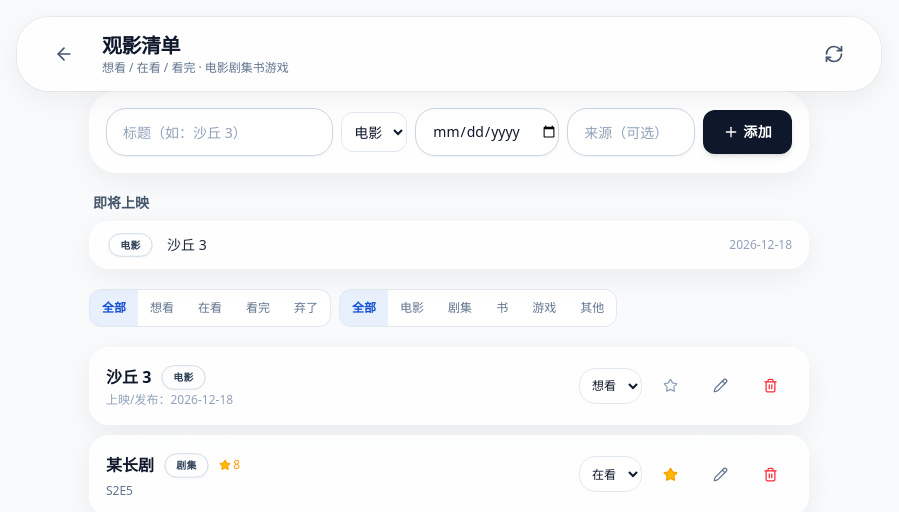
Test case: Watchlist 页（v2.31 R5 / F63） › status filter narrows the list
The image size is (899, 512).
Check: the heading "某长剧" is shown, box left=106, top=454, right=154, bottom=478
Click the tab "想看".
click(162, 308)  # box left=138, top=290, right=186, bottom=326
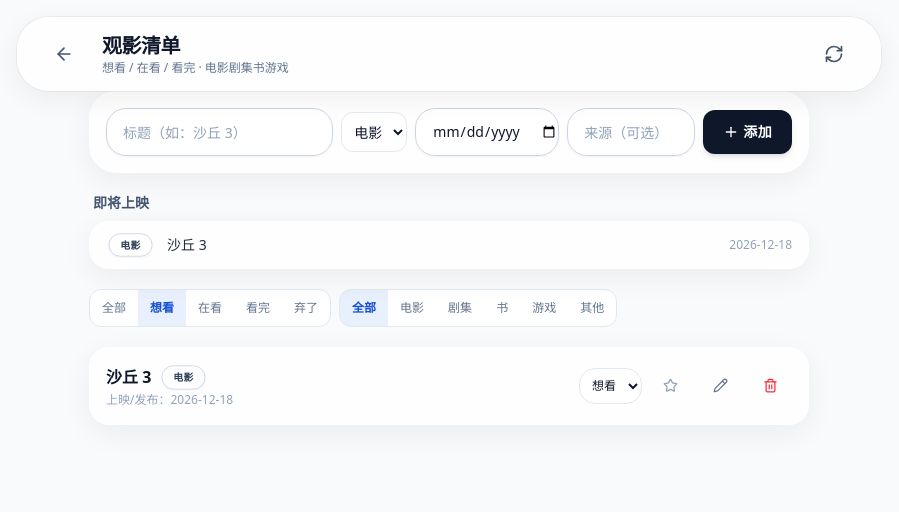
Check: the text "沙丘 3" is shown, box left=167, top=235, right=207, bottom=255
Check: the heading "某长剧" is gone
Check: the dropdown labelled "更新「某长剧」状态" is gone
